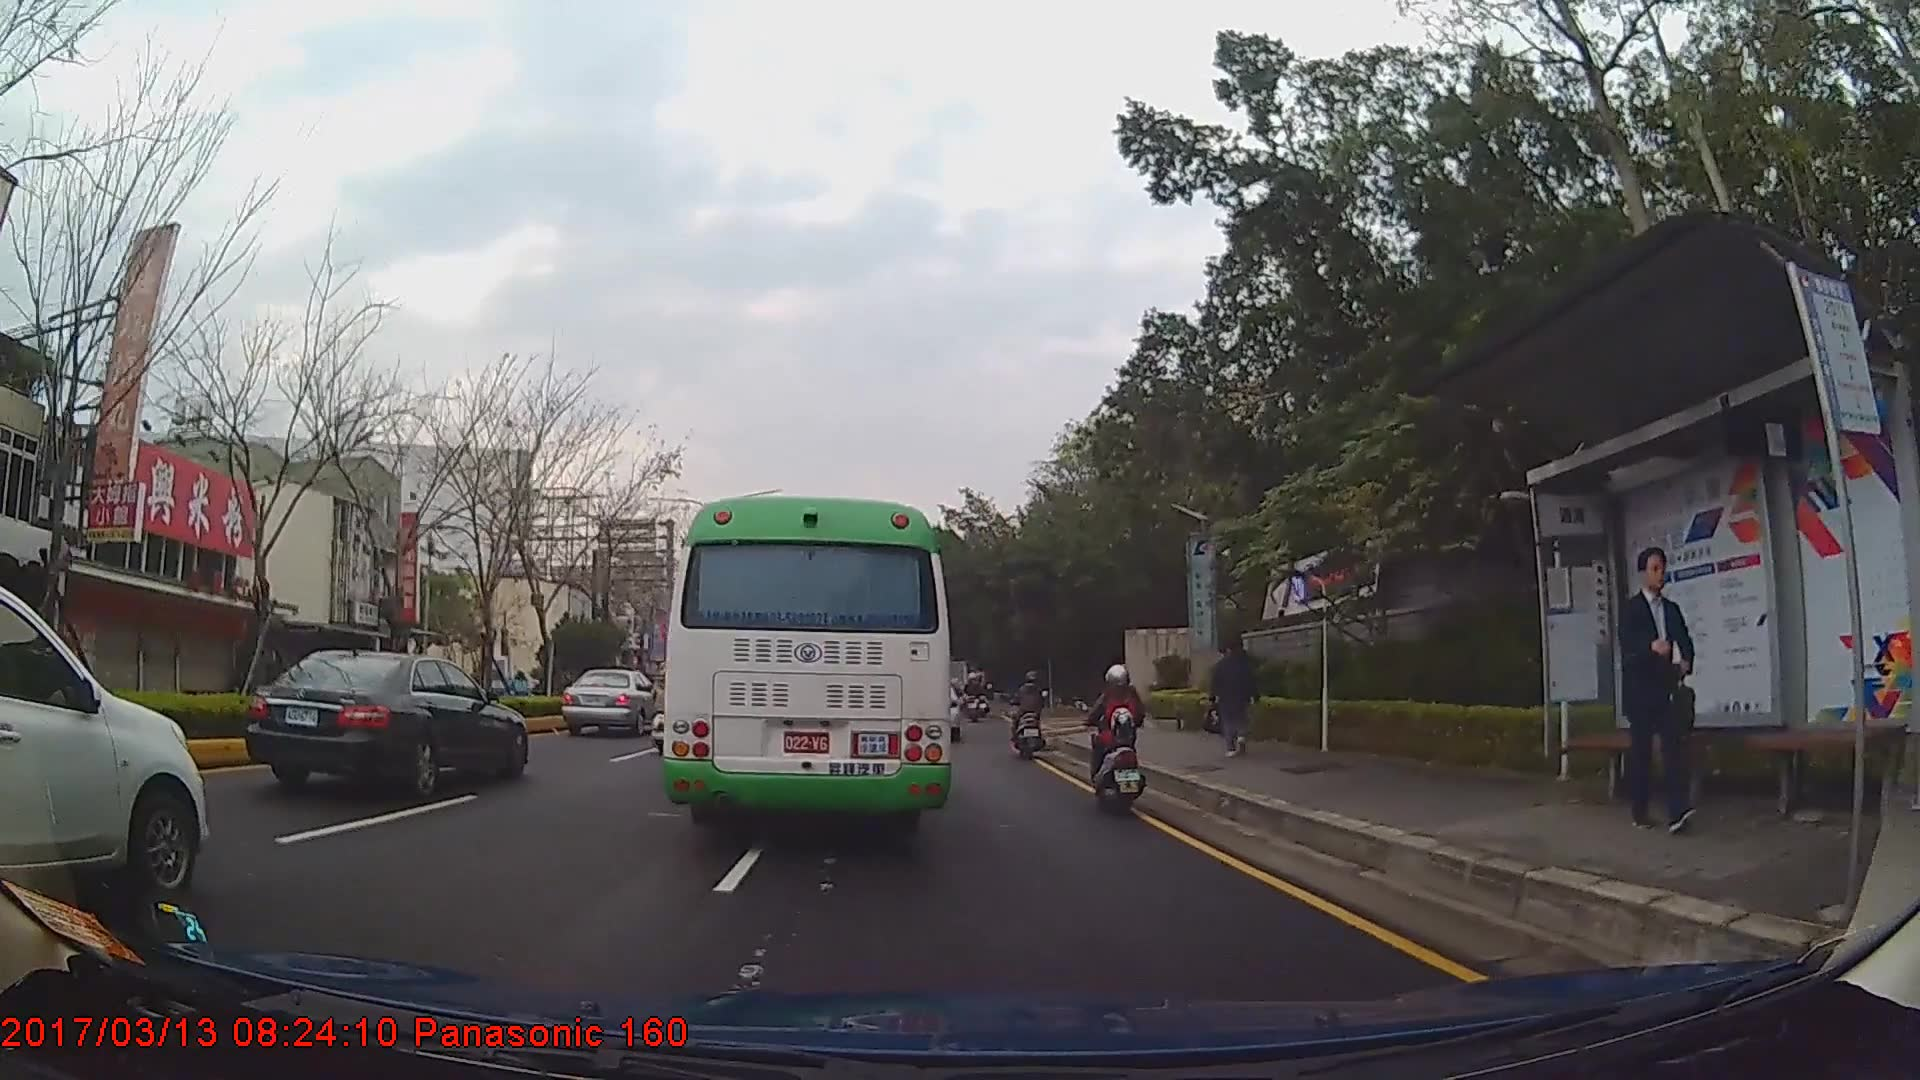pedestrian: (1619, 550, 1699, 835), (1206, 636, 1264, 765)
rider: (1086, 662, 1147, 816), (1010, 667, 1051, 759), (964, 673, 984, 713)
vehicle: (661, 500, 951, 841), (0, 580, 209, 904), (244, 646, 529, 801), (562, 665, 660, 738)
